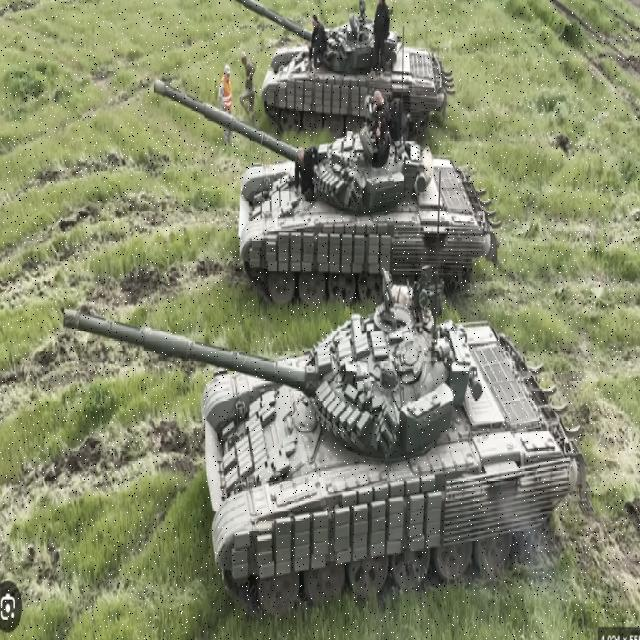TANK: (51, 278, 578, 628), (150, 78, 494, 304), (228, 1, 448, 145)
